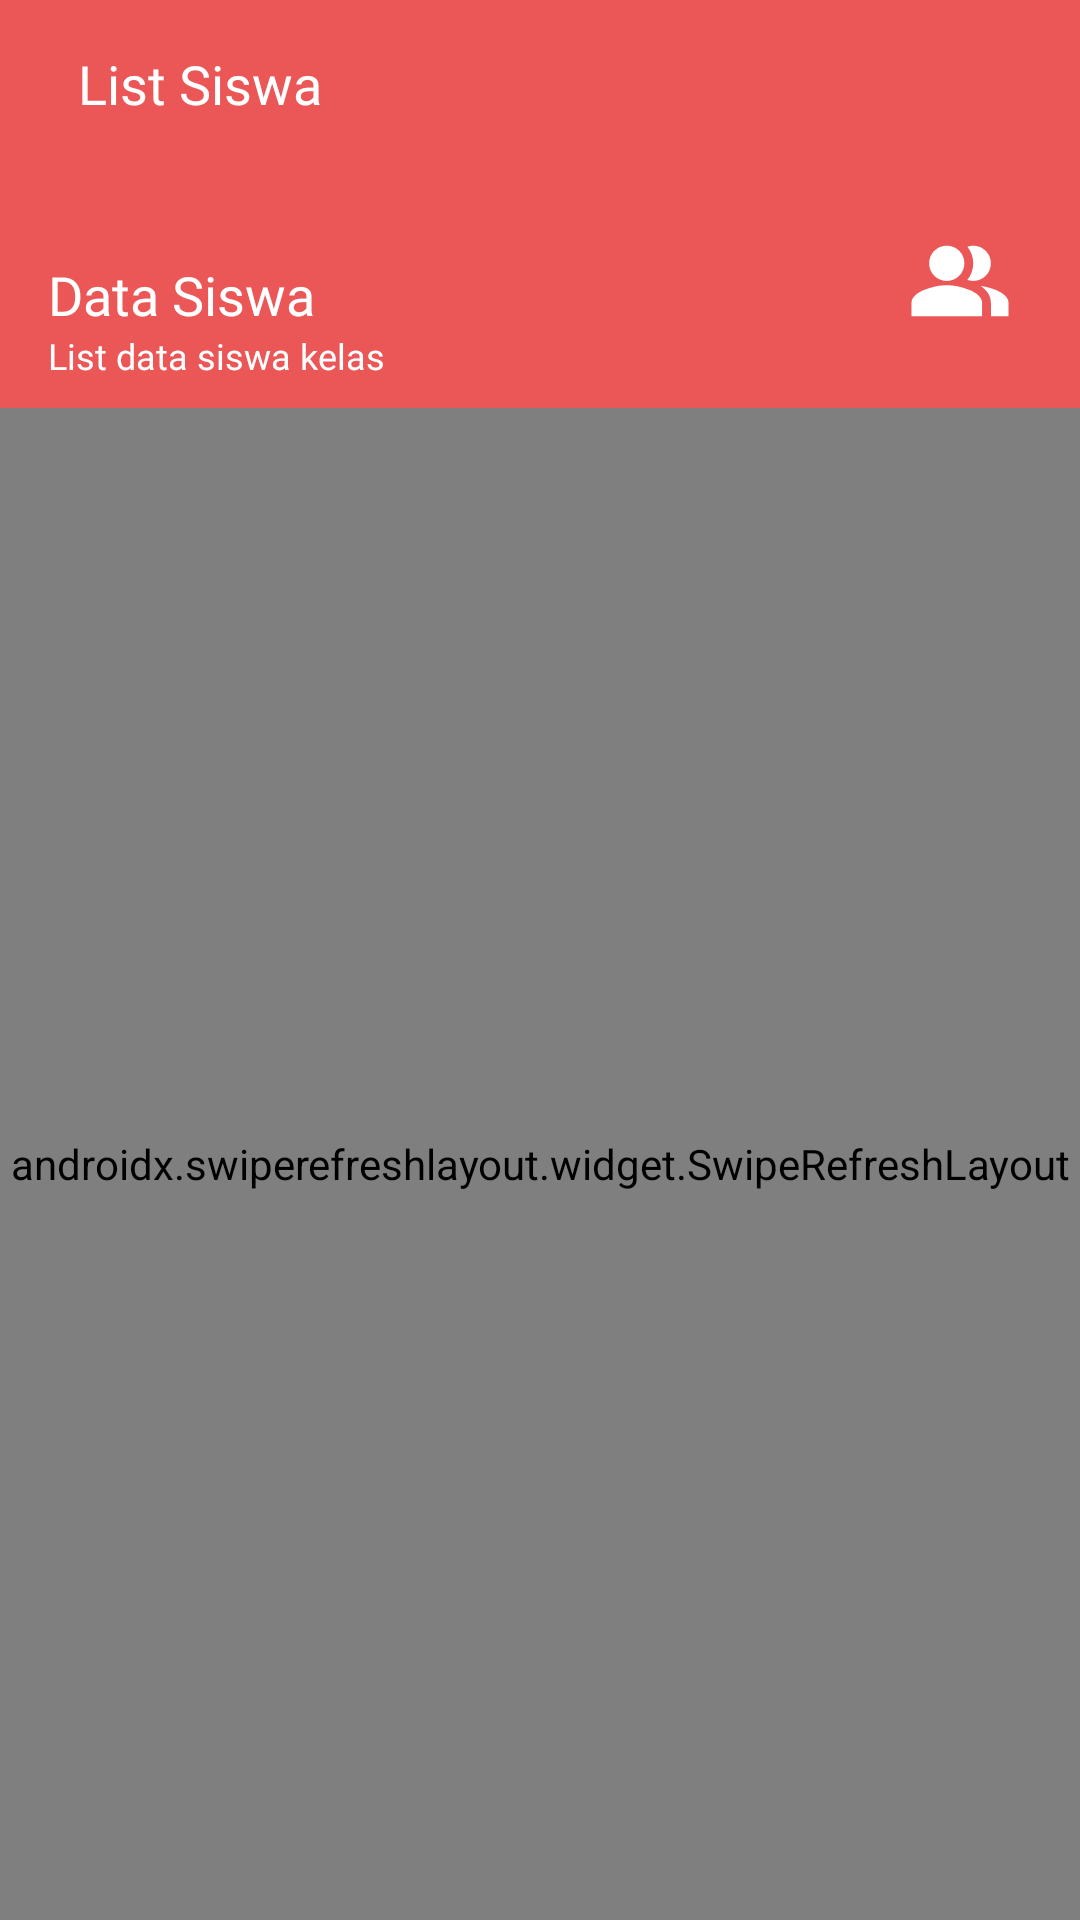

Screen size 1080px×1920px. Icon name, then its center in pixels as (x,y):
data guru: (960,281)
